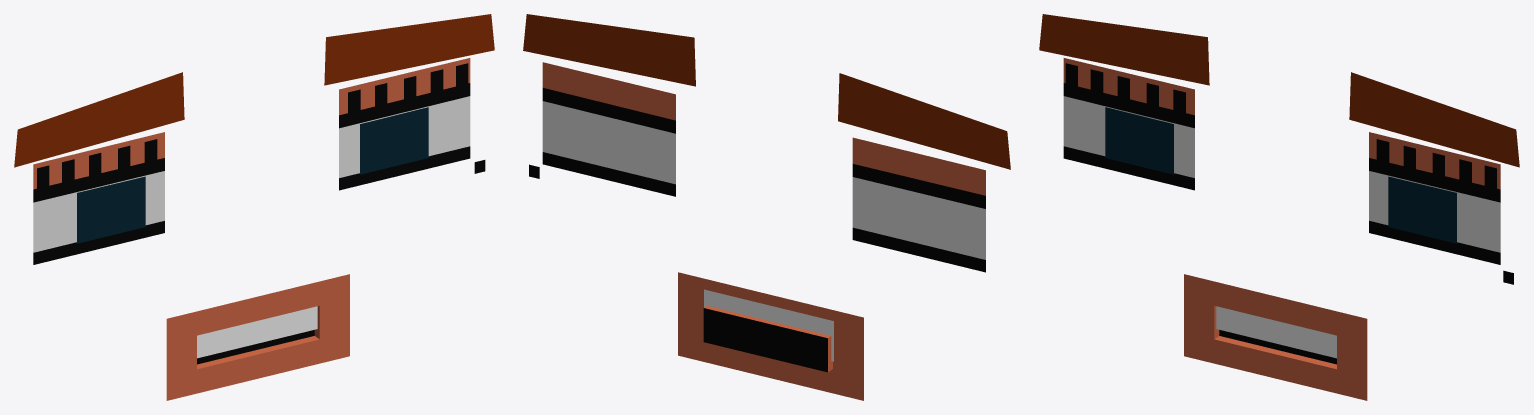
File: Face Female 02.FBX
3 views of the same model, side by side, from view 1: azimuth 30°, elevation 25°; view 2: azimuth 150°, elevation 25°; view 3: azimuth 330°, elevation 25° (orthographic).
Parts seen in each view (by area): view 1: Face Female 02; view 2: Face Female 02; view 3: Face Female 02.
Boxes of the visible parts, x1,y1,x2,y2 form: Face Female 02: (14,14,494,400); Face Female 02: (523,14,1010,400); Face Female 02: (1039,14,1519,400).
Size of the model in its own units: 43.62 by 27.85 by 1.01.
1 material, 1 textured.
